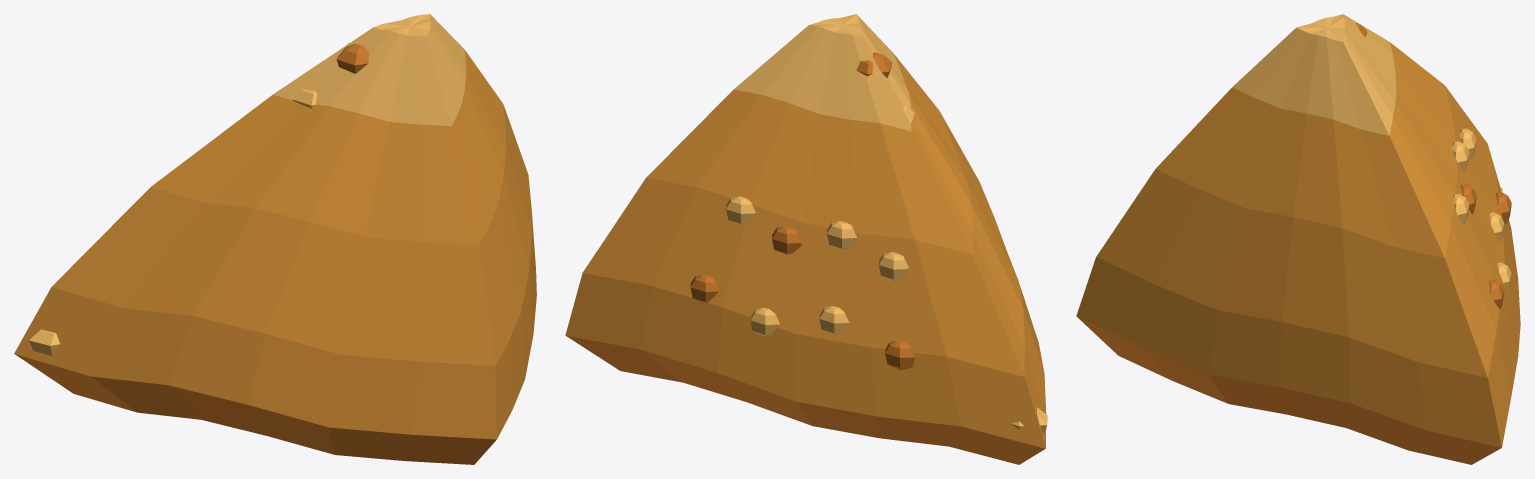
The model's file is golden.obj.
3 renders of one model, left to right at view 1: azimuth 30°, elevation 25°; view 2: azimuth 150°, elevation 25°; view 3: azimuth 270°, elevation 25°, orthographic. The views are drawn at different scales.
Parts seen in each view (by area): view 1: golden; view 2: golden; view 3: golden.
Boxes of the visible parts, <box> form: golden: <box>14,14,536,464</box>; golden: <box>565,14,1047,464</box>; golden: <box>1076,14,1520,464</box>.
Size of the model in its own units: 0.604 by 0.4034 by 0.453.
